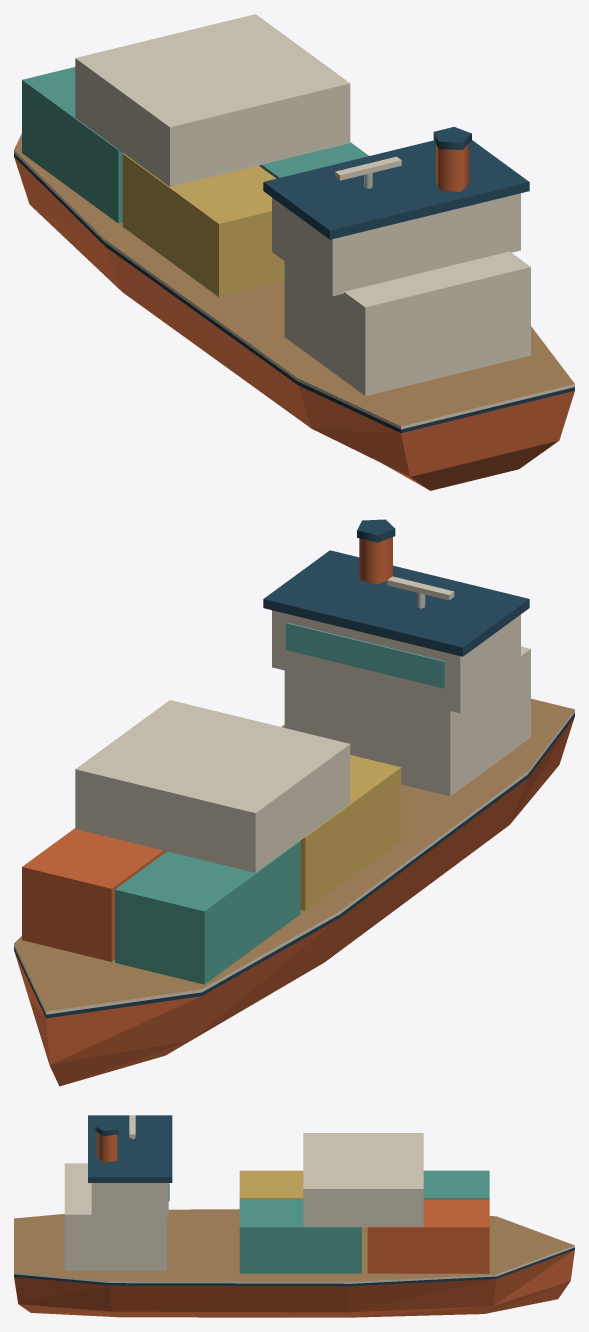
Rendered from cargo.glb.
The picture shows the model from 3 angles, top to bottom: view 1: azimuth 30°, elevation 25°; view 2: azimuth 150°, elevation 25°; view 3: azimuth 270°, elevation 25°; orthographic projection. The views are drawn at different scales.
Parts seen in each view (by area): view 1: static_painted, static_dark; view 2: static_painted, static_dark, static_glass; view 3: static_painted, static_dark.
Boxes of the visible parts, box(x1,y1,x2,y2) form: static_painted: box(14, 14, 574, 490); static_dark: box(263, 127, 529, 239); static_painted: box(14, 537, 574, 1086); static_dark: box(263, 519, 529, 656); static_glass: box(286, 622, 445, 688); static_painted: box(14, 1115, 574, 1317); static_dark: box(88, 1115, 172, 1182).
Bounding box in the file's own units: 4.3 × 5.09 × 14.
